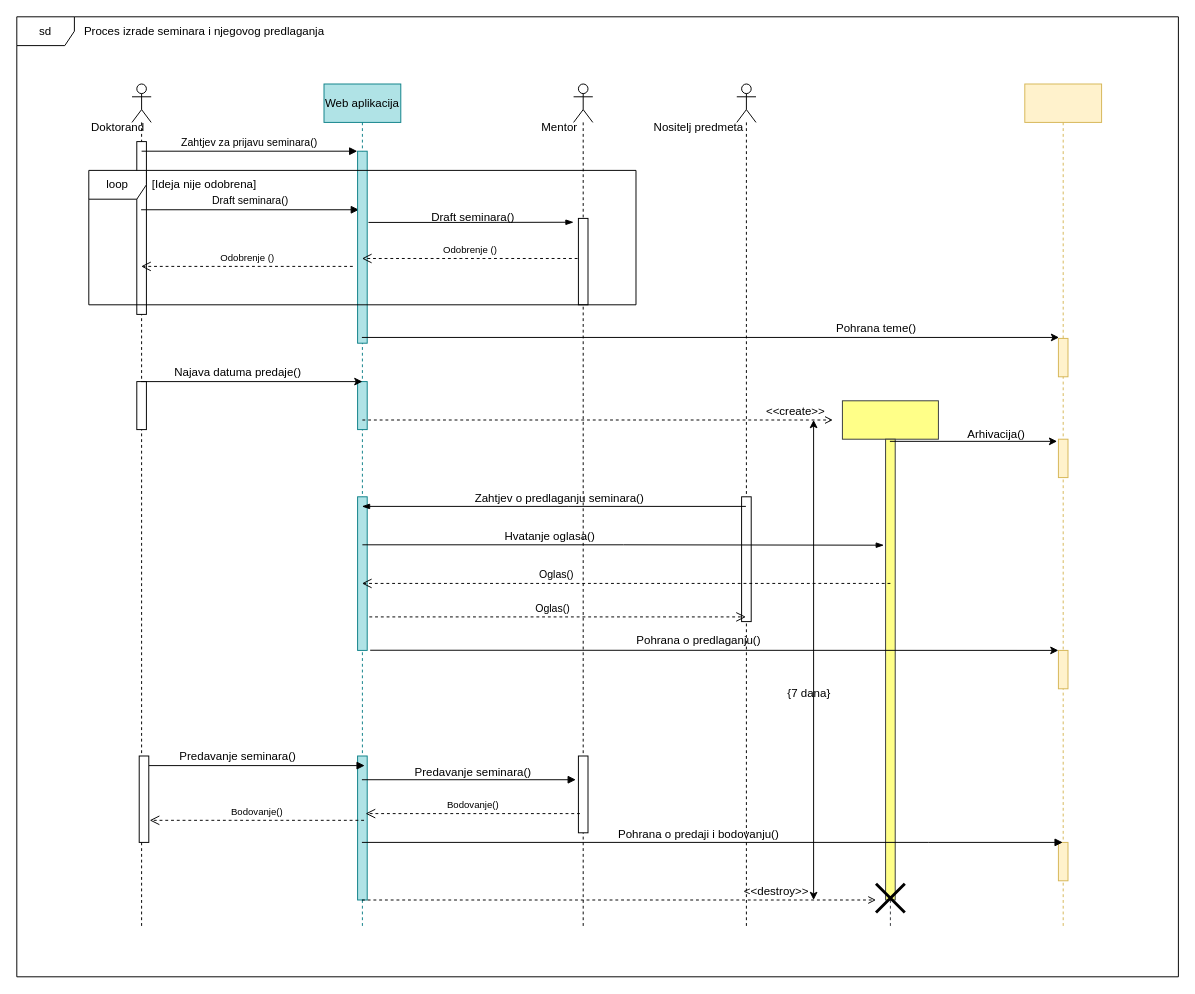
This 1195x994 diagram has some shape labels left out. The box of each missing label's shape, as (x1, y1, x2, y2) in pixels:
Baza podataka: (1024, 83, 1102, 929)
Oglas: (841, 400, 938, 929)
